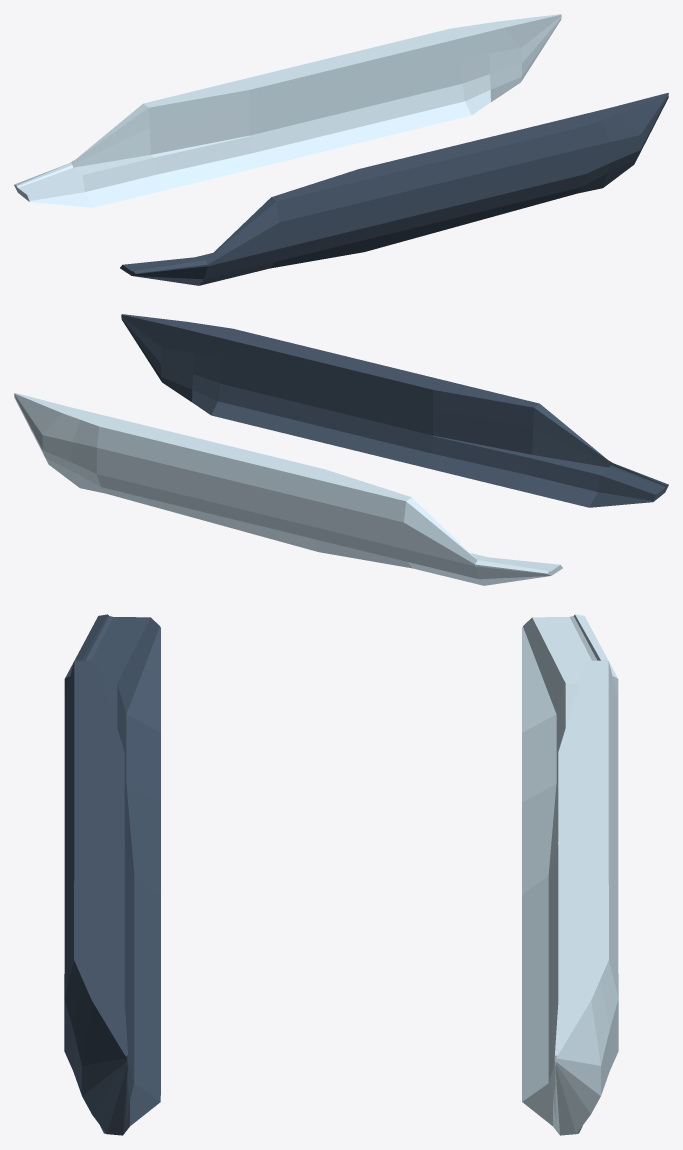
3 renders of one model, top to bottom at view 1: azimuth 30°, elevation 25°; view 2: azimuth 150°, elevation 25°; view 3: azimuth 270°, elevation 25°, orthographic. The views are drawn at different scales.
Visible parts, largest first — view 1: 立方体.024, 立方体.015; view 2: 立方体.015, 立方体.024; view 3: 立方体.024, 立方体.015.
Boxes of the visible parts, bbox=[...] form: 立方体.024: bbox=[14, 14, 561, 207]; 立方体.015: bbox=[120, 93, 668, 285]; 立方体.015: bbox=[121, 314, 668, 507]; 立方体.024: bbox=[14, 393, 562, 585]; 立方体.024: bbox=[522, 614, 618, 1135]; 立方体.015: bbox=[64, 614, 160, 1135].
Size of the model in its own units: 8.26 by 1.15 by 3.67.
